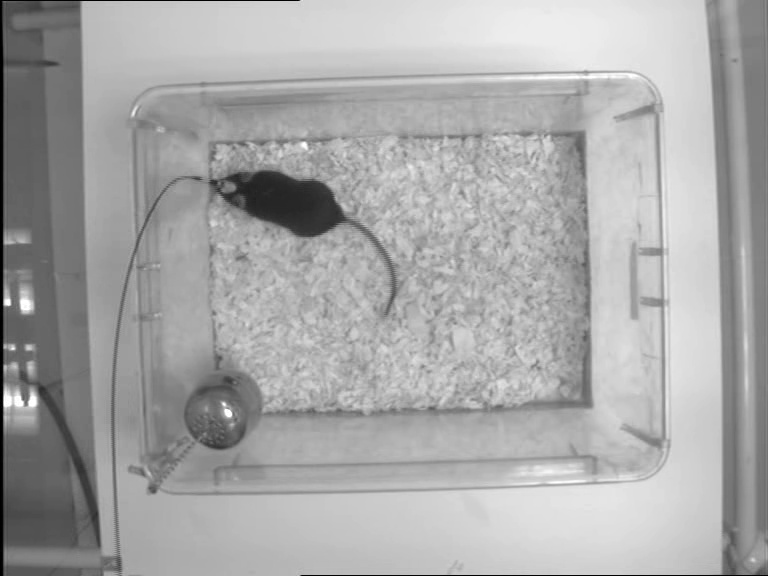mice: (206, 173, 398, 313)
